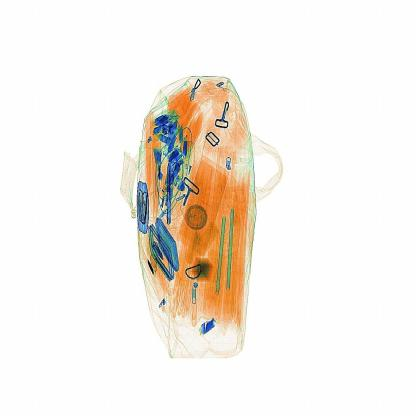pliers: (160, 151, 181, 228)
